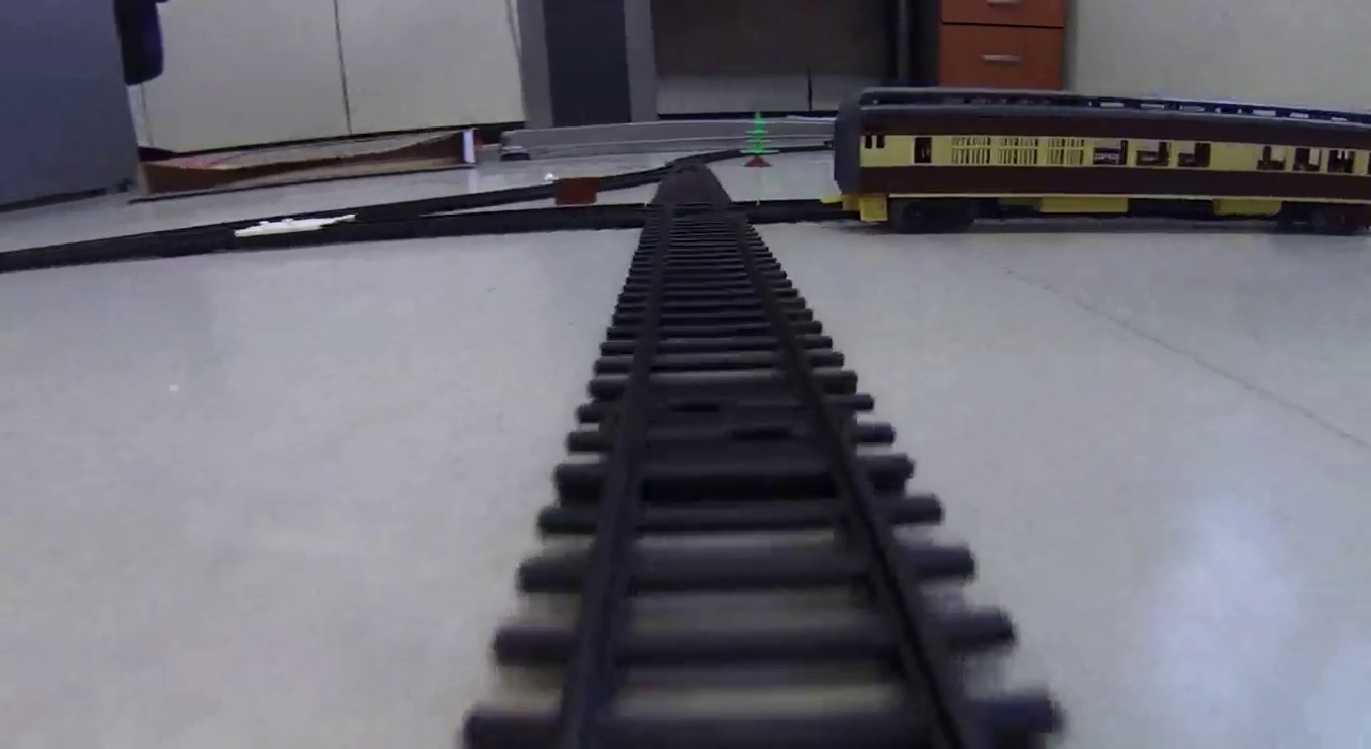box: (552, 179, 600, 202)
tree: (739, 110, 777, 169)
